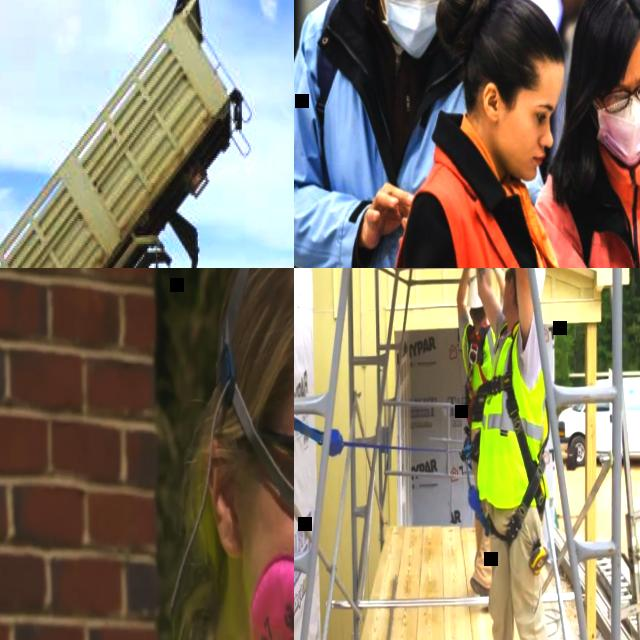Hardhat: (508, 268, 545, 304), (467, 277, 485, 309)
Mask: (373, 0, 456, 62), (592, 92, 640, 167)
NO-Hardhat: (223, 268, 294, 431), (457, 0, 568, 75), (574, 0, 640, 58)
NO-Mask: (498, 135, 543, 180), (501, 276, 514, 316), (556, 0, 582, 16)
NO-Safety Vest: (299, 0, 465, 268), (399, 164, 573, 268), (553, 161, 640, 268)
Person: (0, 268, 294, 640), (383, 0, 638, 268), (294, 0, 470, 268), (532, 0, 640, 268), (473, 268, 549, 640), (455, 268, 507, 601), (555, 0, 616, 33)
Safety Vest: (476, 321, 547, 510), (462, 319, 497, 429)
vehicle: (0, 0, 294, 268), (557, 369, 640, 472)
